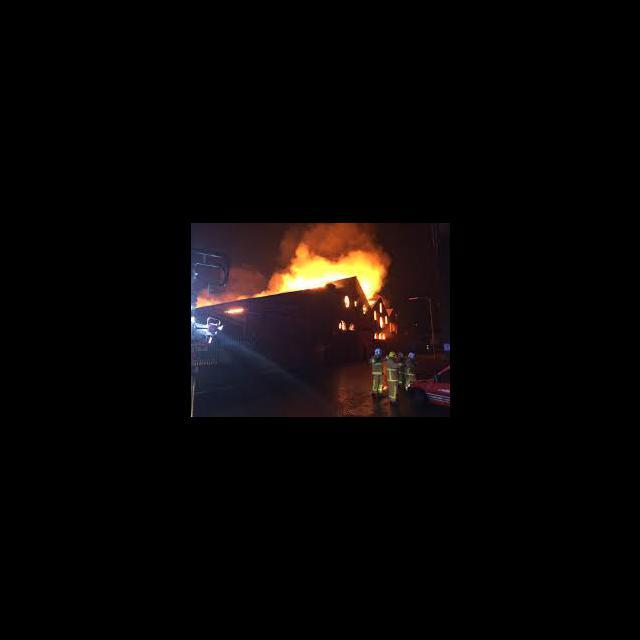Fire: (352, 262, 381, 297), (293, 275, 332, 291), (225, 308, 245, 314), (344, 296, 349, 307), (348, 324, 354, 331), (379, 302, 382, 314), (384, 315, 388, 324), (362, 306, 366, 314), (373, 332, 377, 339), (342, 321, 345, 330), (380, 318, 382, 328), (382, 335, 386, 340), (353, 302, 357, 307), (338, 322, 340, 331), (378, 334, 381, 339), (374, 311, 375, 320)
Smoke: (305, 224, 371, 250), (227, 263, 264, 291), (269, 228, 297, 264)
